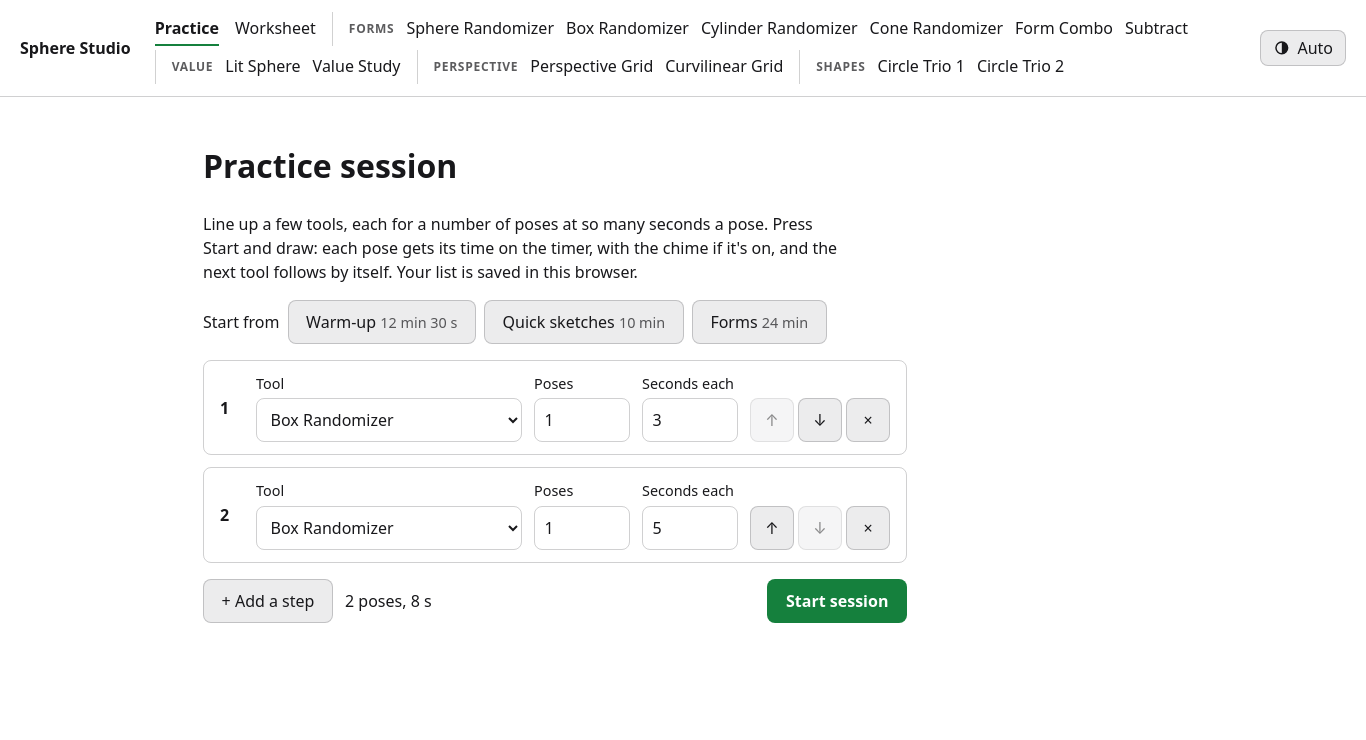
running a session › starts the same tool afresh when two steps in a row use it
What coordinates should you click on to do the following:
click the button "Start session"
I would click on:
 (837, 601)
Its box is [767,579,907,623].
Wait 3000 ms
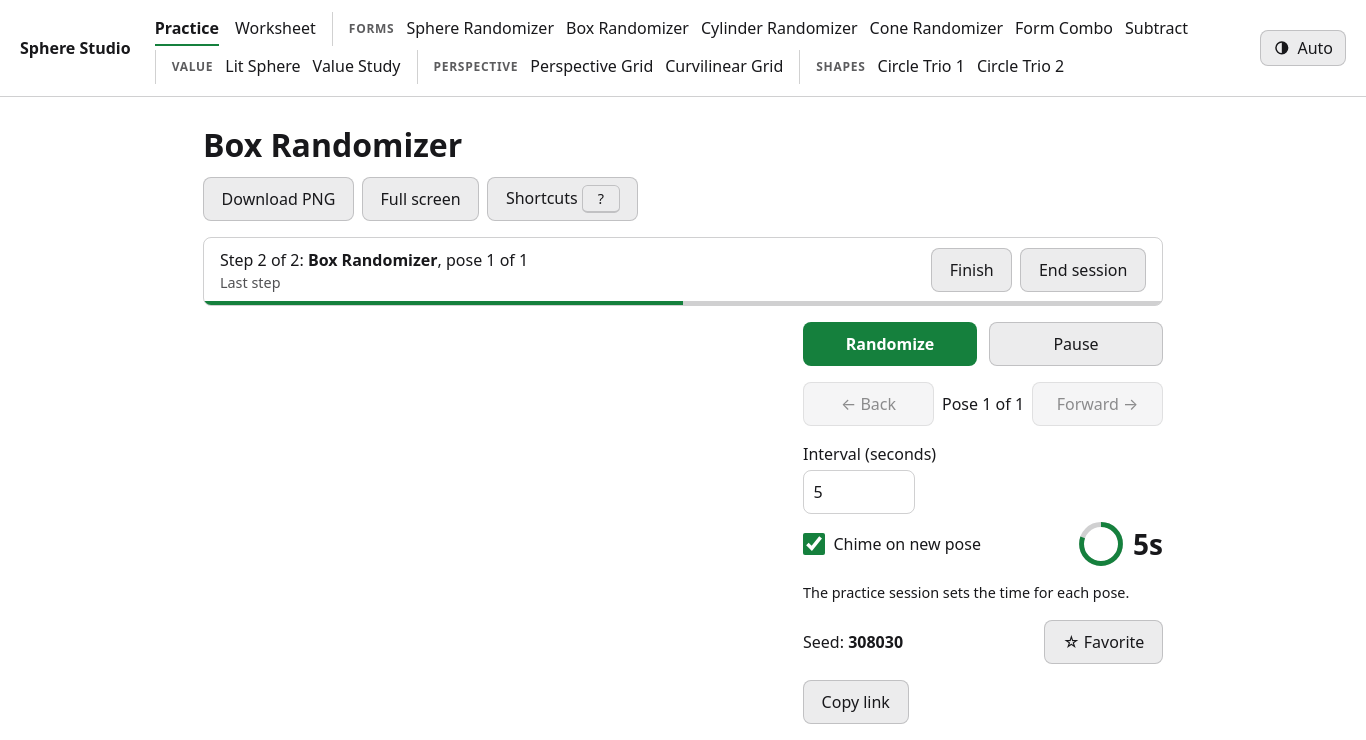
Now the message "Step 2 of 2: Box Randomizer, pose 1 of 1" is shown, box [220,248,528,272]
Now the text "5s" is shown, box [1133,523,1163,565]
Now the button "Pause" is shown, box [989,322,1163,366]
